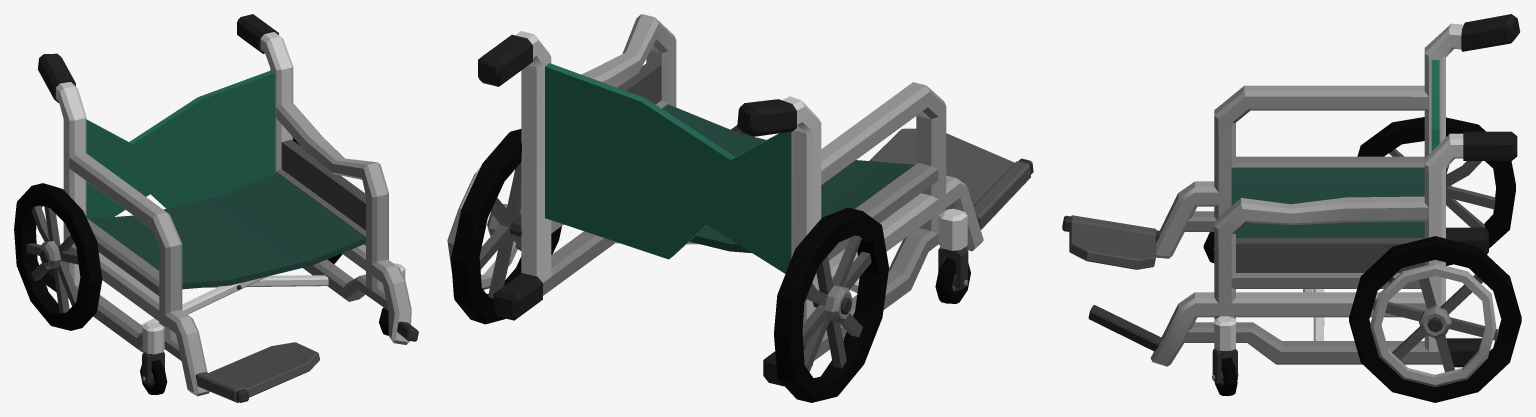
File: Wheelchair 02.fbx
The picture shows the model from 3 angles, left to right: view 1: azimuth 30°, elevation 25°; view 2: azimuth 150°, elevation 25°; view 3: azimuth 270°, elevation 25°; orthographic projection. The views are drawn at different scales.
Parts seen in each view (by area): view 1: Wheelchair_02; view 2: Wheelchair_02; view 3: Wheelchair_02.
Part boxes in pixels (x1,y1,x2,y2): Wheelchair_02: [14, 14, 418, 402]; Wheelchair_02: [447, 14, 1033, 402]; Wheelchair_02: [1062, 14, 1521, 402].
Size of the model in its own units: 99.23 by 81.2 by 128.
